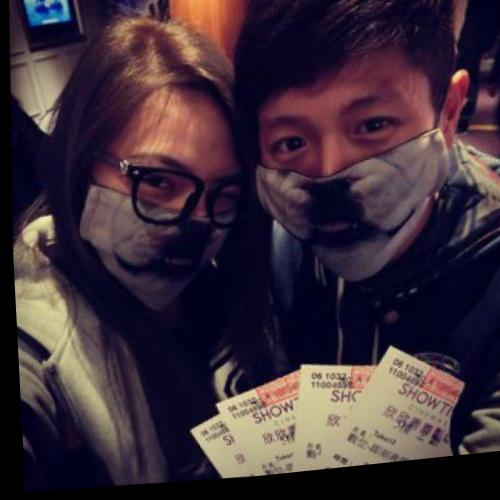OK: (84, 120, 261, 304)
WRONG: (249, 104, 431, 293)
